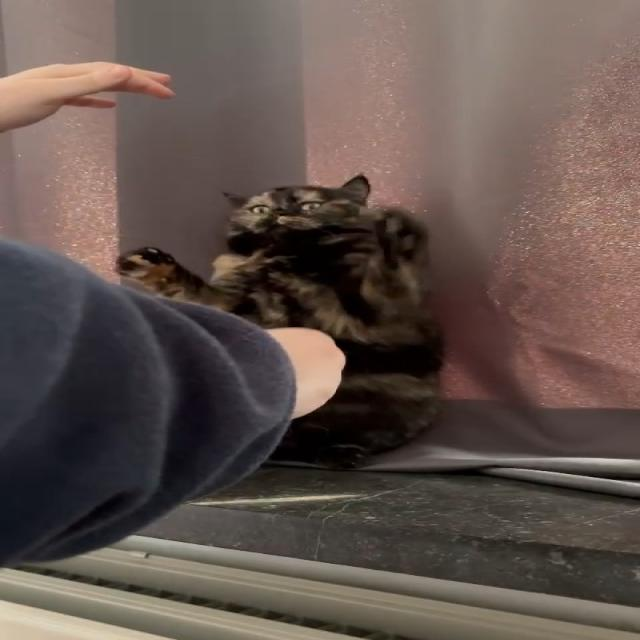authorized: (114, 173, 447, 469)
